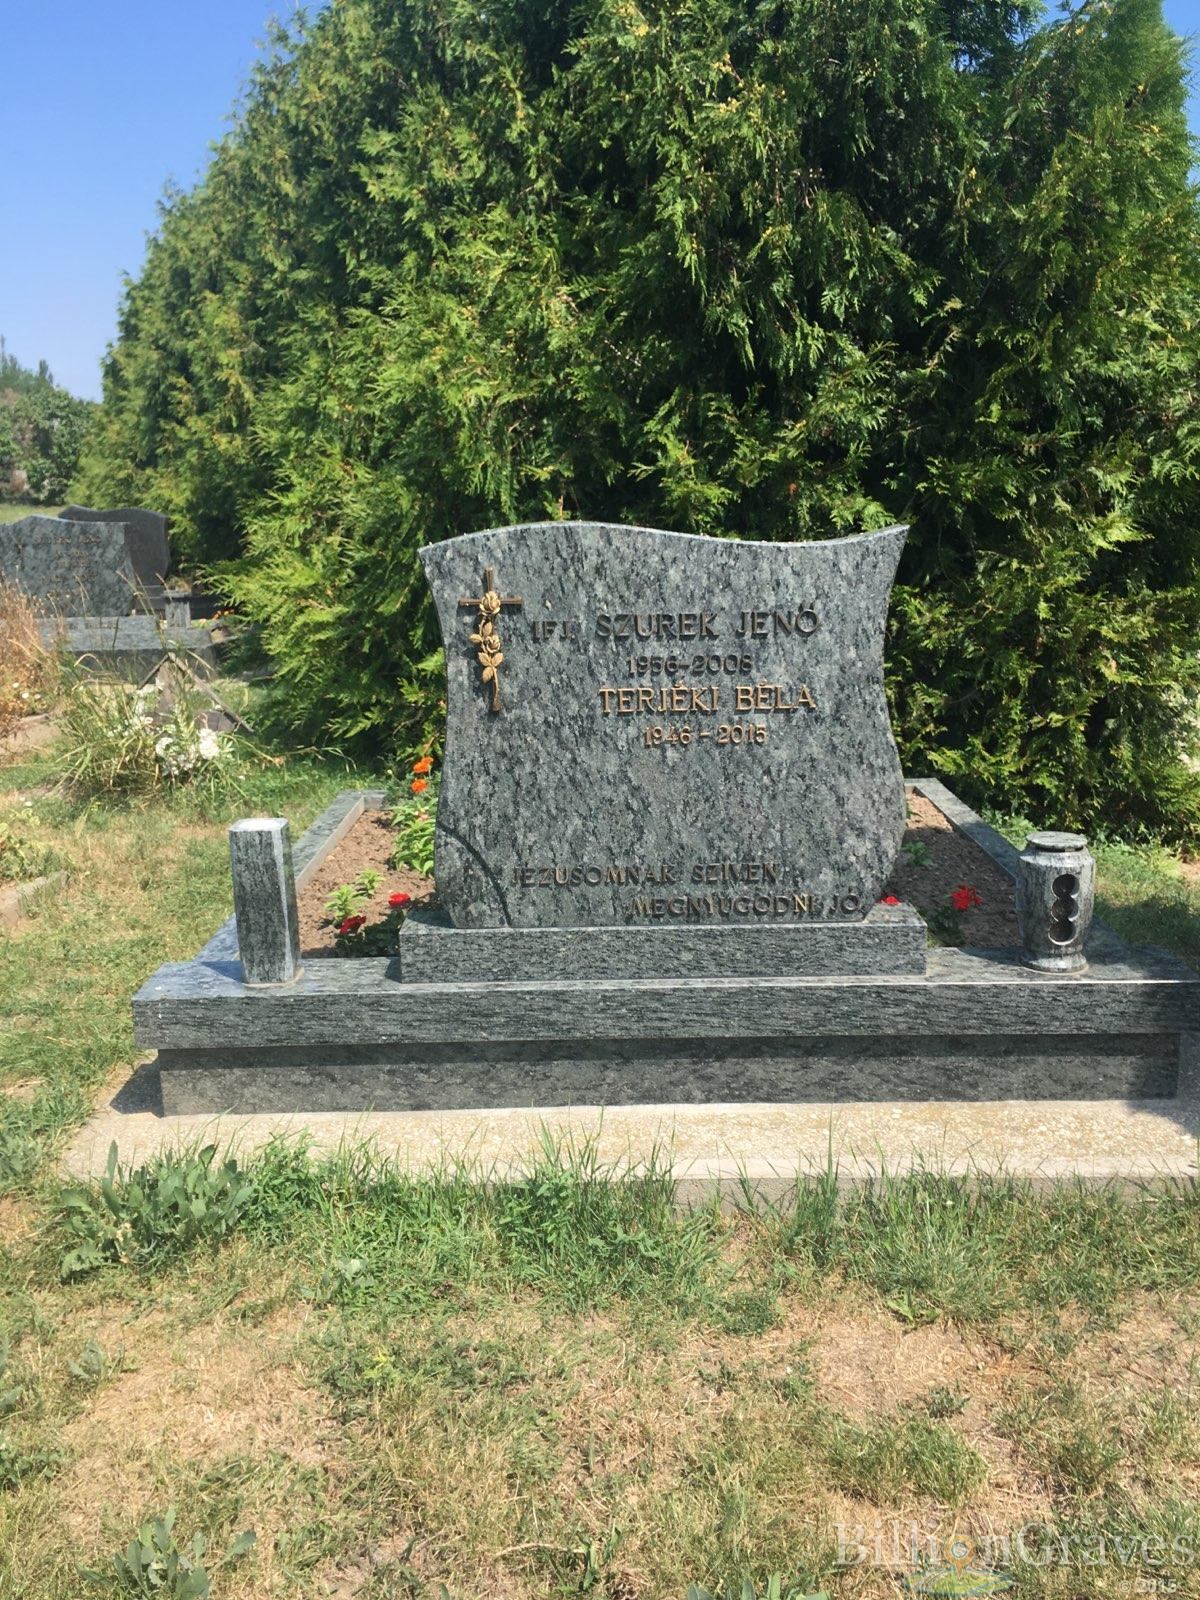upright: (124, 518, 1182, 1120)
